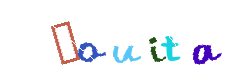8: (28, 0, 108, 80)
A: (130, 0, 210, 80)
I: (115, 0, 195, 80)
O: (84, 0, 164, 80)
T: (115, 0, 195, 80)
U: (92, 0, 172, 80)
